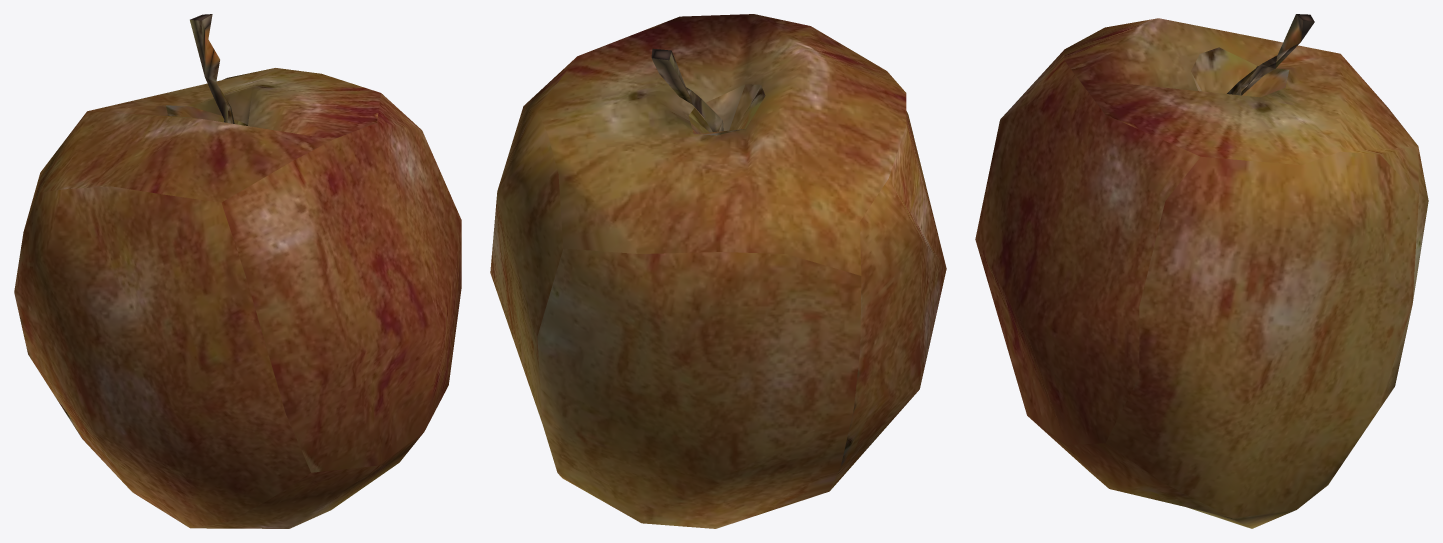
Rendered from Red_Apple.glb.
3 views of the same model, side by side, from view 1: azimuth 30°, elevation 25°; view 2: azimuth 150°, elevation 25°; view 3: azimuth 270°, elevation 25° (orthographic). The views are drawn at different scales.
Parts seen in each view (by area): view 1: SM_Red_Apple; view 2: SM_Red_Apple; view 3: SM_Red_Apple.
Part boxes in pixels (x1,y1,x2,y2): SM_Red_Apple: (14, 14, 461, 528); SM_Red_Apple: (490, 14, 946, 528); SM_Red_Apple: (975, 14, 1428, 528).
Bounding box in the file's own units: 0.1278 × 0.1424 × 0.124.
1 material, 1 textured.
